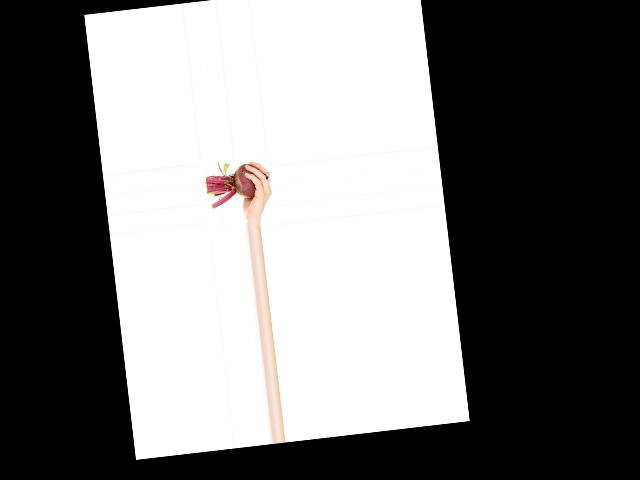beet: (203, 156, 271, 208)
